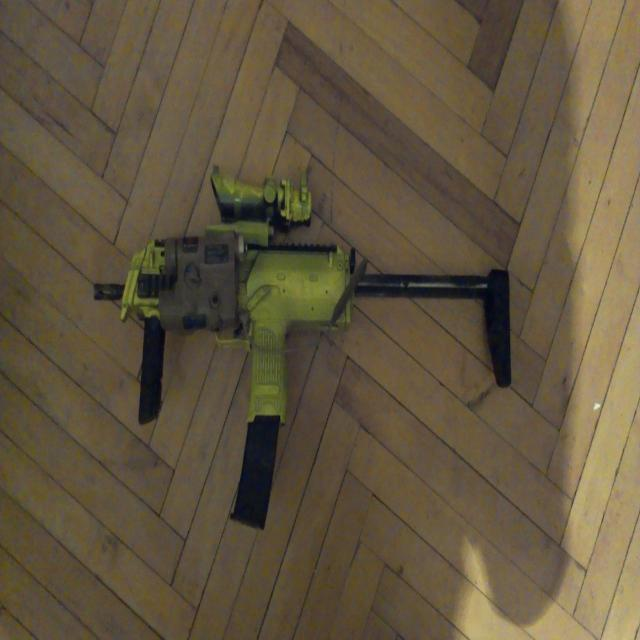firearm: (92, 172, 512, 532)
